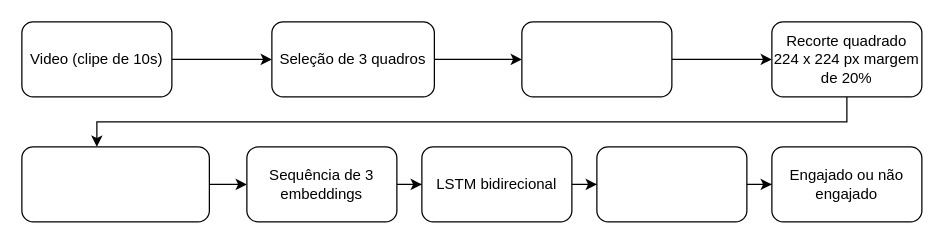
Image size: 944x244. Some labels were removed from this diagram. Each missing label, with the centre of its shape:
"Detecção do rosto dlib (HOG) reserva: MediaPipe" belongs at point 596,59.
"Embedding por quadro DINOv2: 1.536 valores Swin-tiny: 768 valores" belongs at point 115,184.
"Probabilidade P(engajado)" belongs at point 671,184.
